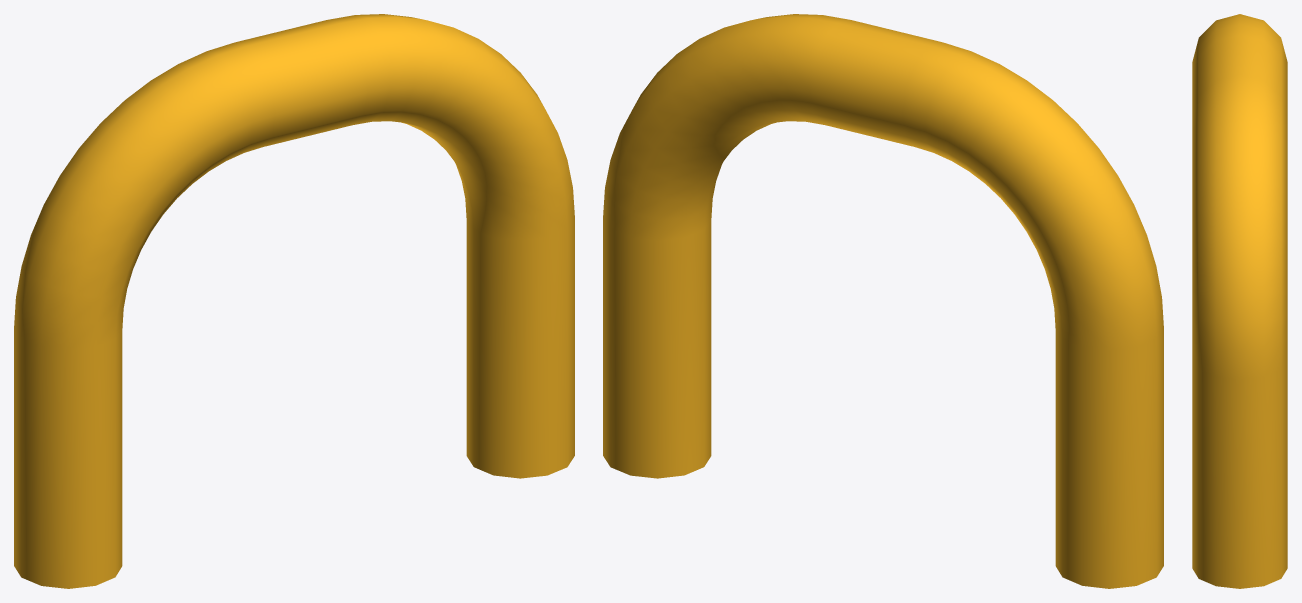
The model's file is gateSmall_teamYellow-col.glb.
3 renders of one model, left to right at view 1: azimuth 30°, elevation 25°; view 2: azimuth 150°, elevation 25°; view 3: azimuth 270°, elevation 25°, orthographic. The views are drawn at different scales.
Visible parts, largest first — view 1: gateSmall_teamYellow-col; view 2: gateSmall_teamYellow-col; view 3: gateSmall_teamYellow-col.
Boxes of the visible parts, x1=… form: gateSmall_teamYellow-col: x1=14, y1=14, x2=574, y2=588; gateSmall_teamYellow-col: x1=603, y1=14, x2=1163, y2=588; gateSmall_teamYellow-col: x1=1192, y1=14, x2=1287, y2=588.
Size of the model in its own units: 2.4 by 2 by 0.4126.
